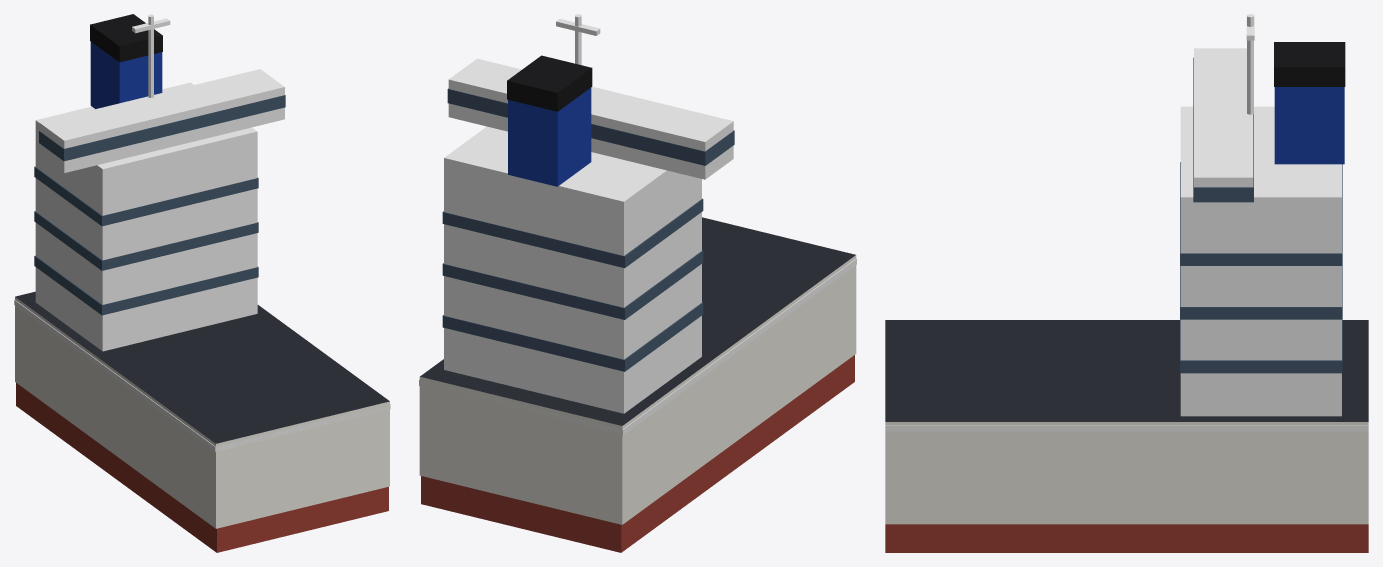
Rendered from metanero_popa.obj.
The picture shows the model from 3 angles, left to right: view 1: azimuth 30°, elevation 25°; view 2: azimuth 150°, elevation 25°; view 3: azimuth 270°, elevation 25°; orthographic projection. The views are drawn at different scales.
Visible parts, largest first — view 1: metanero_popa; view 2: metanero_popa; view 3: metanero_popa.
Part boxes in pixels (x1,y1,x2,y2): metanero_popa: [14, 14, 390, 552]; metanero_popa: [419, 14, 856, 552]; metanero_popa: [885, 14, 1368, 552].
Size of the model in its own units: 11.45 by 20 by 18.
